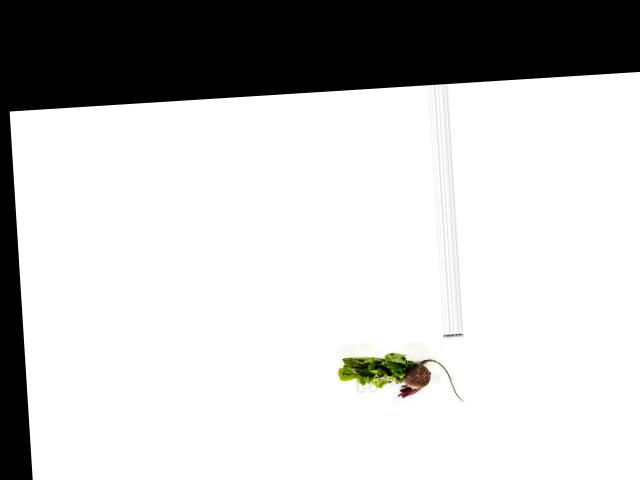beet: (395, 356, 464, 405)
